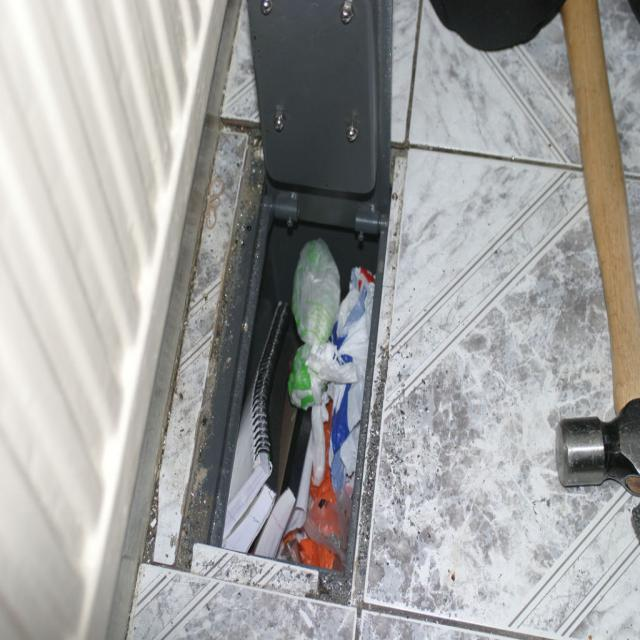hammer: (557, 0, 640, 541)
